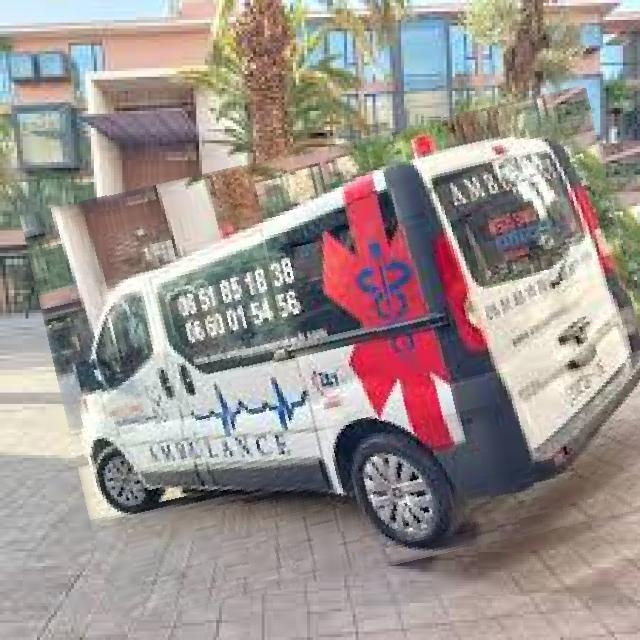ambulance: (39, 115, 640, 596)
